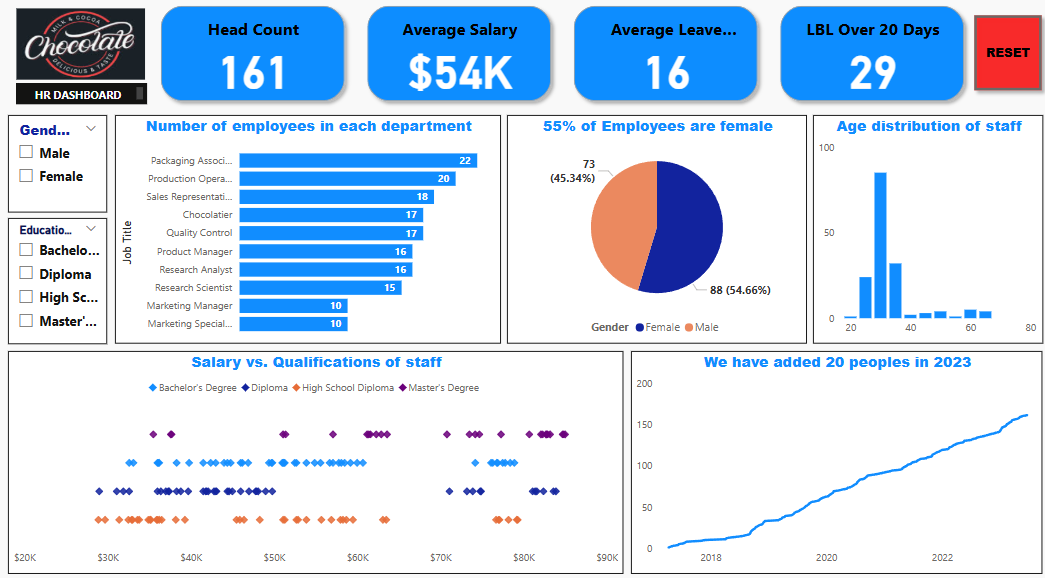

Layout of this report page (visuals, bound fields, positions):
{"tool":"powerbi","page":{"name":"HR DASHBOARD","canvas":[1280,720],"ordinal":0},"visuals":[{"type":"cardVisual","fields":{"Data":["data.Head Count","data.avg salary","data.Average Leave Balance","data.LBL Over 20 Days"]},"box":[178.8,0,1014.1,150.6],"z":0},{"type":"clusteredBarChart","title":"Number of employees in each department ","fields":{"Category":["data.Job Title"],"Y":["data.Head Count"]},"box":[140,150,471,279],"z":1000},{"type":"pieChart","title":"55% of Employees are female","fields":{"Category":["data.Gender"],"Y":["data.Head Count"]},"box":[619,150,366,279],"z":2000},{"type":"columnChart","title":"Age distribution of staff","fields":{"Category":["data.Age (bins)"],"Y":["data.Head Count"]},"box":[992,150,281,279],"z":3000},{"type":"scatterChart","title":"Salary vs. Qualifications of staff","fields":{"X":["data.Salary"],"Series":["data.Education Qualification"],"Y":["Qual.Qualification ID"]},"box":[9.4,437.6,750.6,271.8],"z":4000},{"type":"lineChart","title":"We have added 20 peoples in 2023","fields":{"Category":["data.Date of Join"],"Y":["data.cumulative Headcount"]},"box":[770.6,437.6,502.4,271.8],"z":5000},{"type":"slicer","title":"Gender","fields":{"Values":["data.Gender"]},"box":[9.4,150.6,121.2,118.8],"z":6000},{"type":"slicer","fields":{"Values":["data.Education Qualification"]},"box":[9.6,275.3,121.1,154.2],"z":7000},{"type":"actionButton","box":[1180,20,100,109.4],"z":8000},{"type":"image","box":[0,0,196.8,126.6],"z":9000},{"type":"textbox","box":[19.3,111.5,159.7,26.2],"z":10000}]}

Visuals, with their boxes in screenshot pixels (x1, y1, x2, y2), scaled from the page's 1280x720 canvas onto the 1045x578 screenshot:
cardVisual - data.Head Count x data.avg salary: BBox(146, 0, 974, 121)
"Number of employees in each department " clusteredBarChart: BBox(114, 120, 499, 344)
"55% of Employees are female" pieChart: BBox(505, 120, 804, 344)
"Age distribution of staff" columnChart: BBox(810, 120, 1039, 344)
"Salary vs. Qualifications of staff" scatterChart: BBox(8, 351, 620, 569)
"We have added 20 peoples in 2023" lineChart: BBox(629, 351, 1039, 569)
"Gender" slicer: BBox(8, 121, 107, 216)
slicer - data.Education Qualification: BBox(8, 221, 107, 345)
actionButton: BBox(963, 16, 1044, 104)
image: BBox(0, 0, 161, 102)
textbox: BBox(16, 90, 146, 111)
